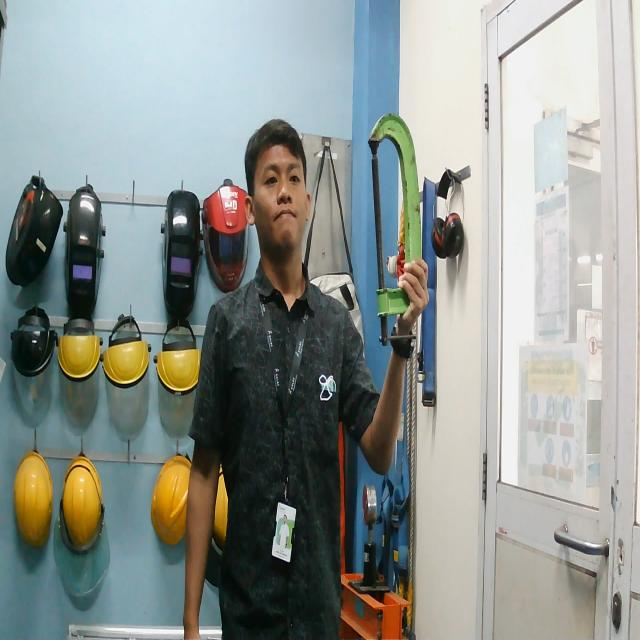tekiro_c_clamp: (365, 100, 432, 346)
